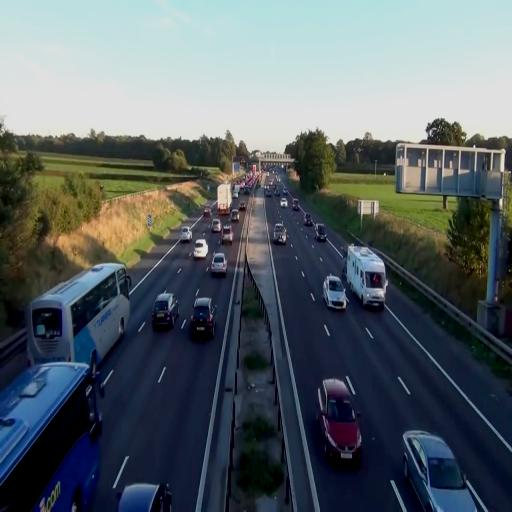vehicle: (0, 353, 101, 508), (26, 262, 131, 366), (402, 431, 488, 512), (316, 376, 362, 467), (346, 244, 386, 309), (117, 482, 167, 512), (189, 297, 216, 337), (152, 292, 179, 329), (323, 275, 347, 311), (216, 182, 232, 218), (210, 250, 228, 276), (192, 238, 208, 262), (273, 221, 288, 244), (180, 226, 192, 242), (316, 223, 326, 241)
